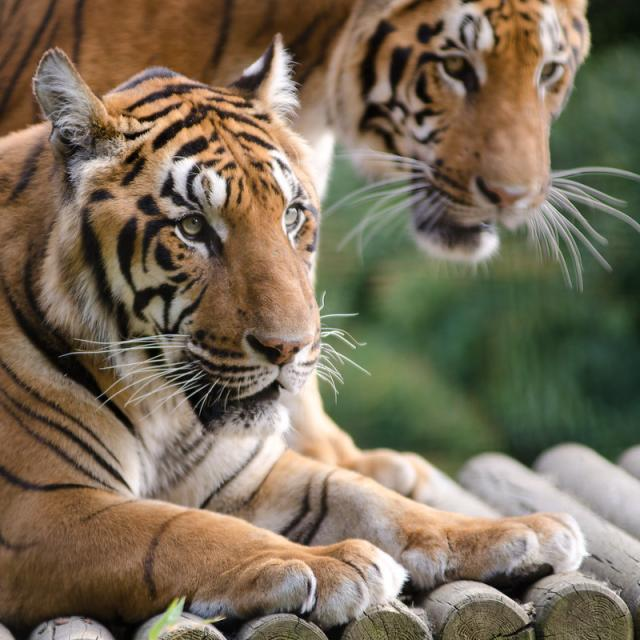Tiger: (0, 63, 581, 621), (0, 0, 590, 261)
